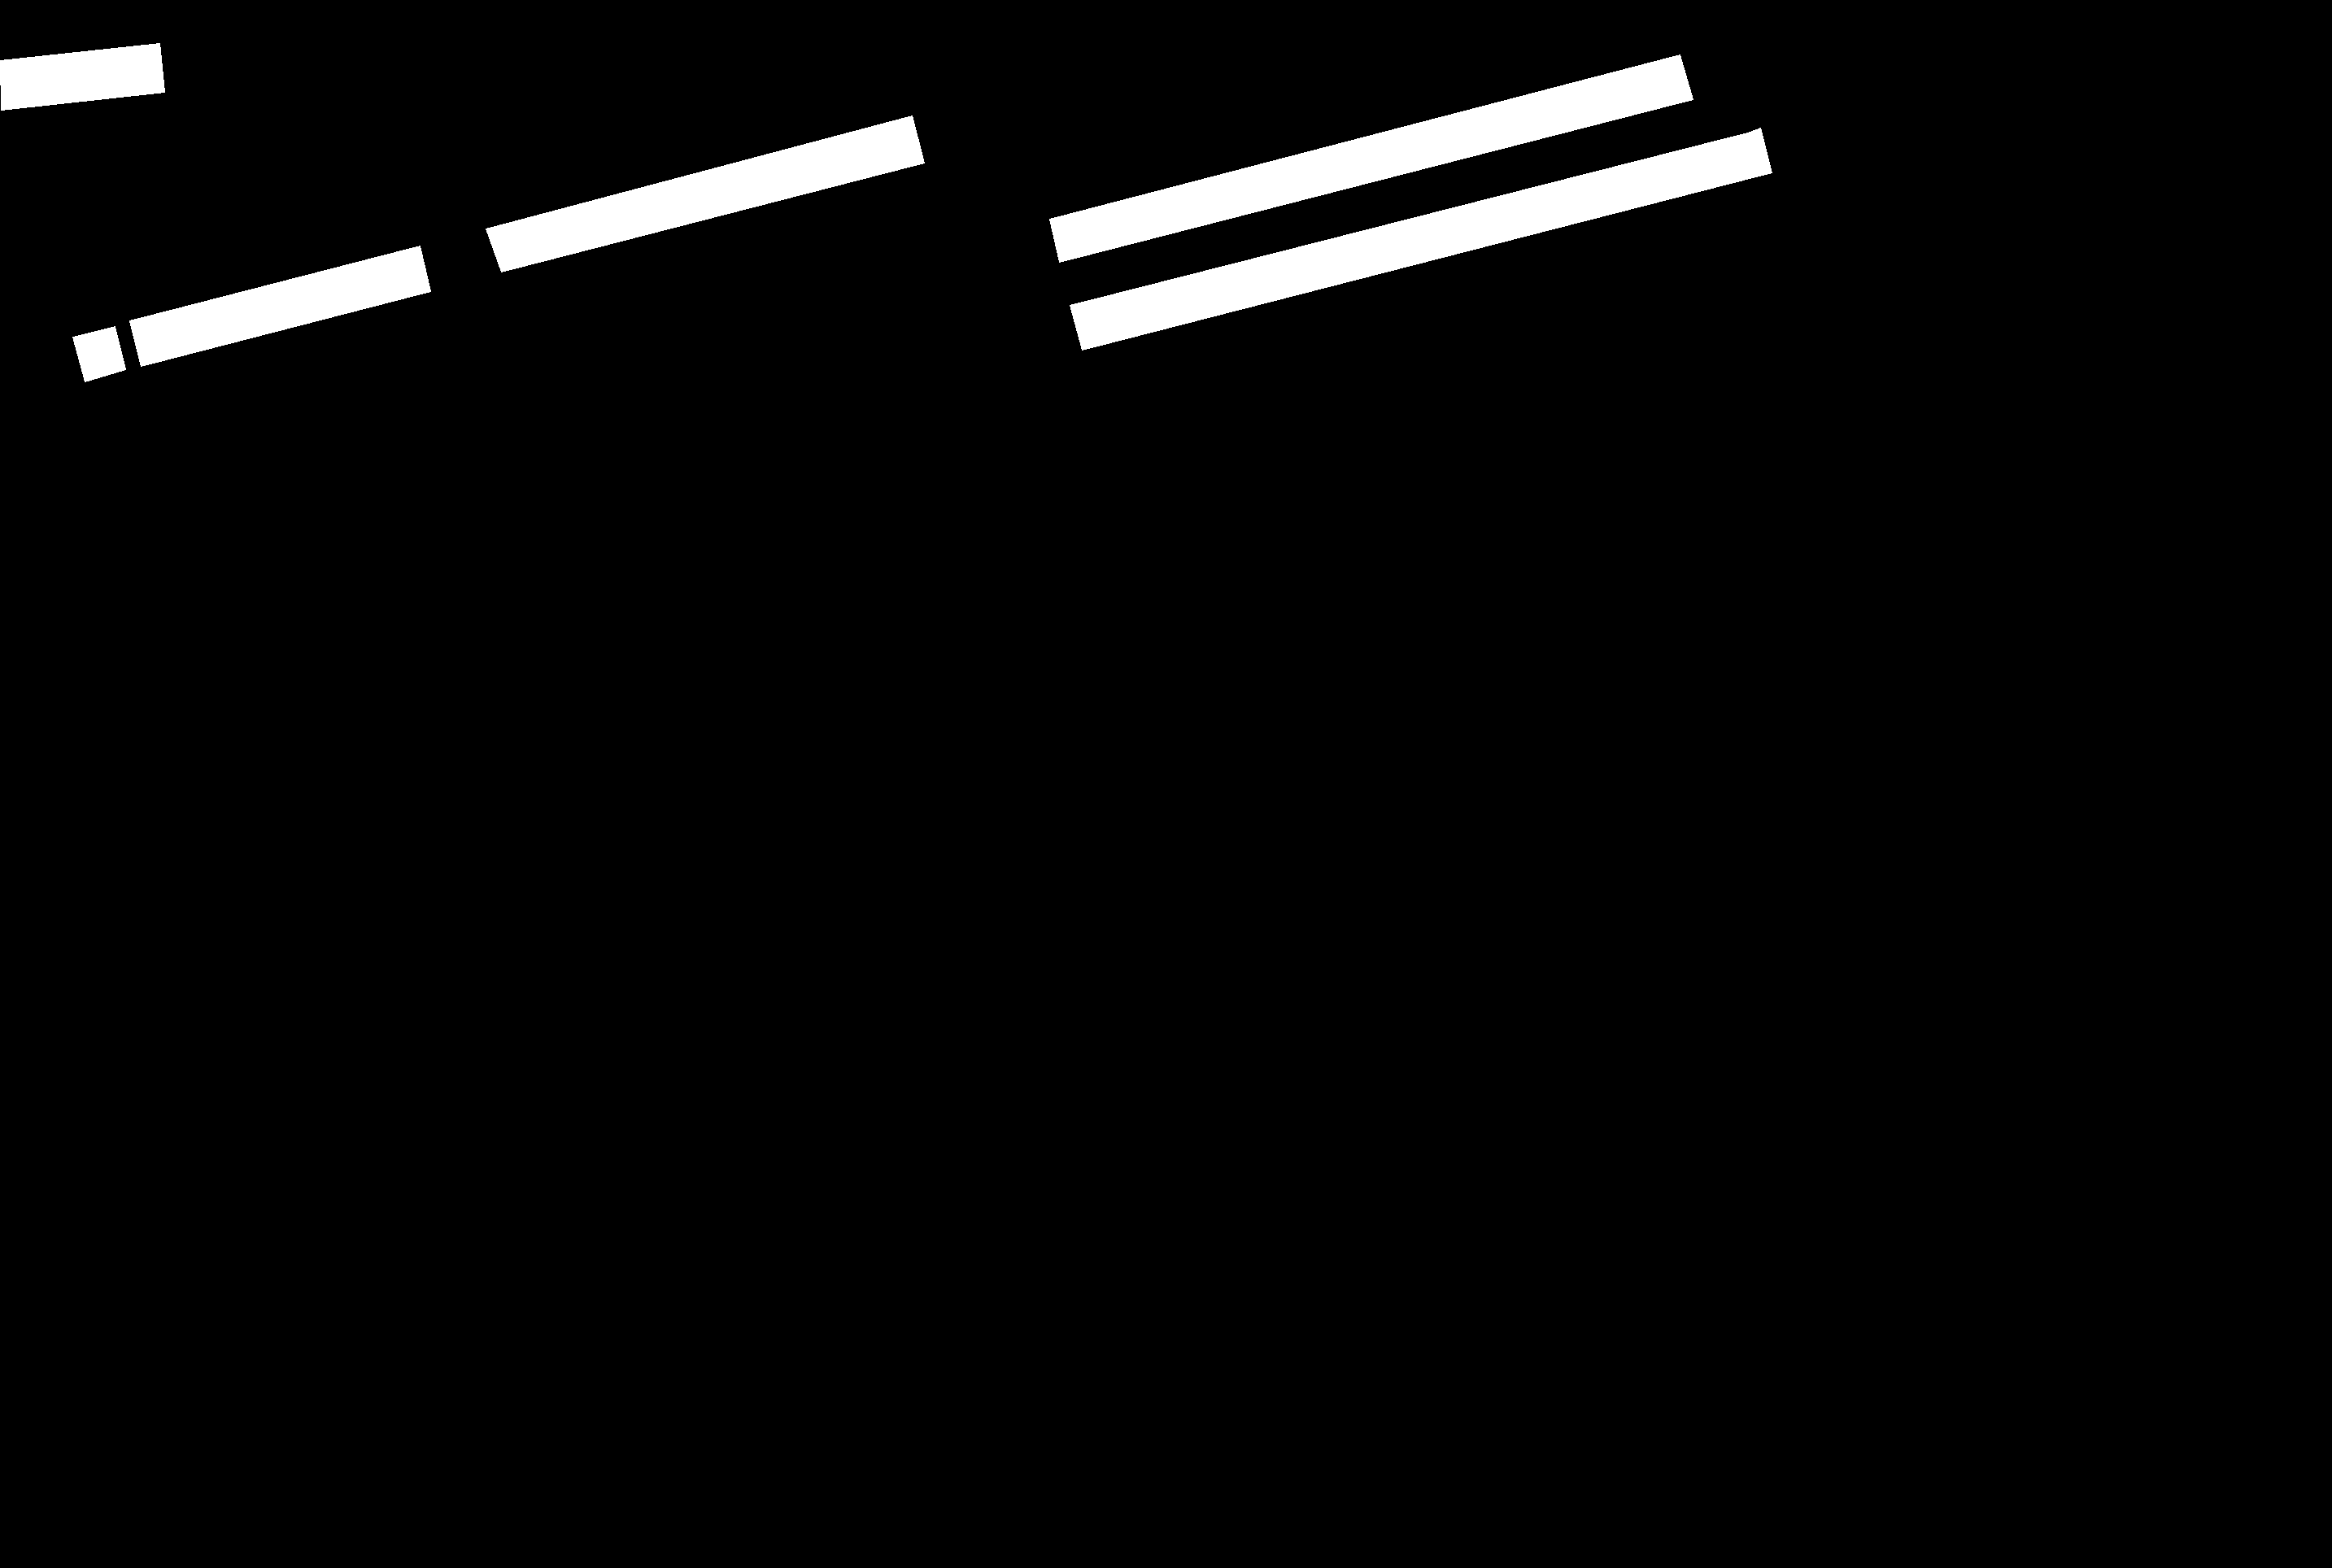parkingspot: (1069, 128, 1772, 350), (1050, 54, 1693, 262), (486, 115, 924, 271), (129, 245, 430, 366), (0, 44, 164, 110), (72, 325, 126, 381)
